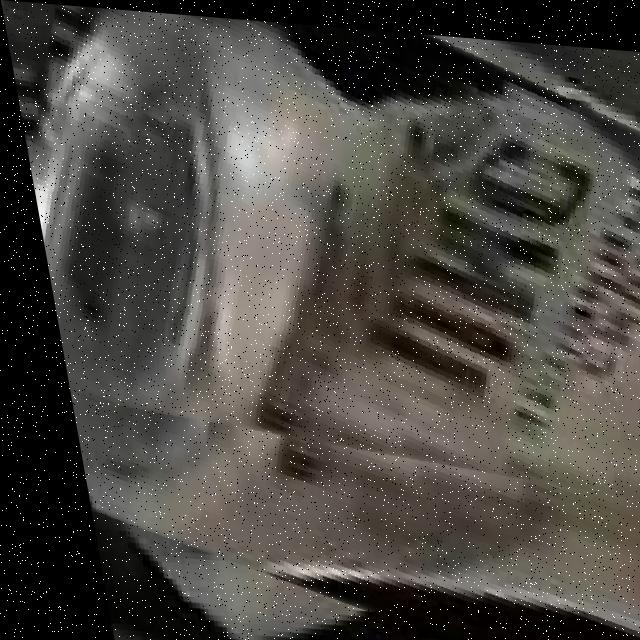litter: (25, 4, 640, 406)
